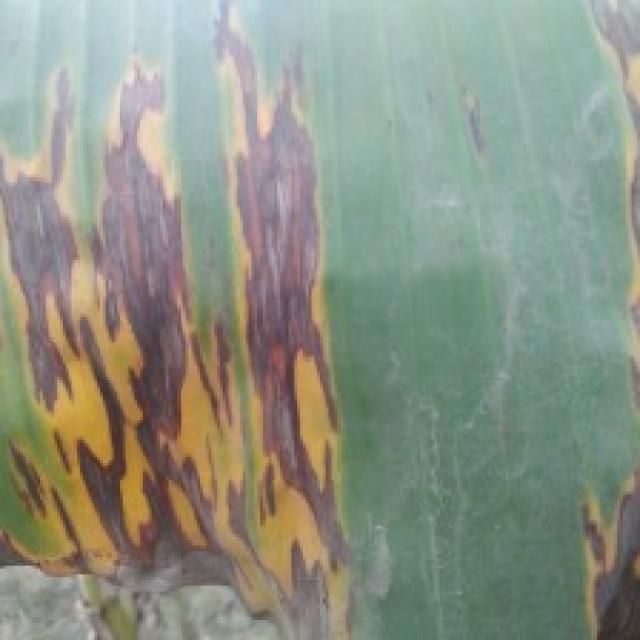Early_leaf_spot: (0, 0, 368, 611), (547, 0, 640, 356), (528, 431, 640, 639), (448, 91, 501, 173)
